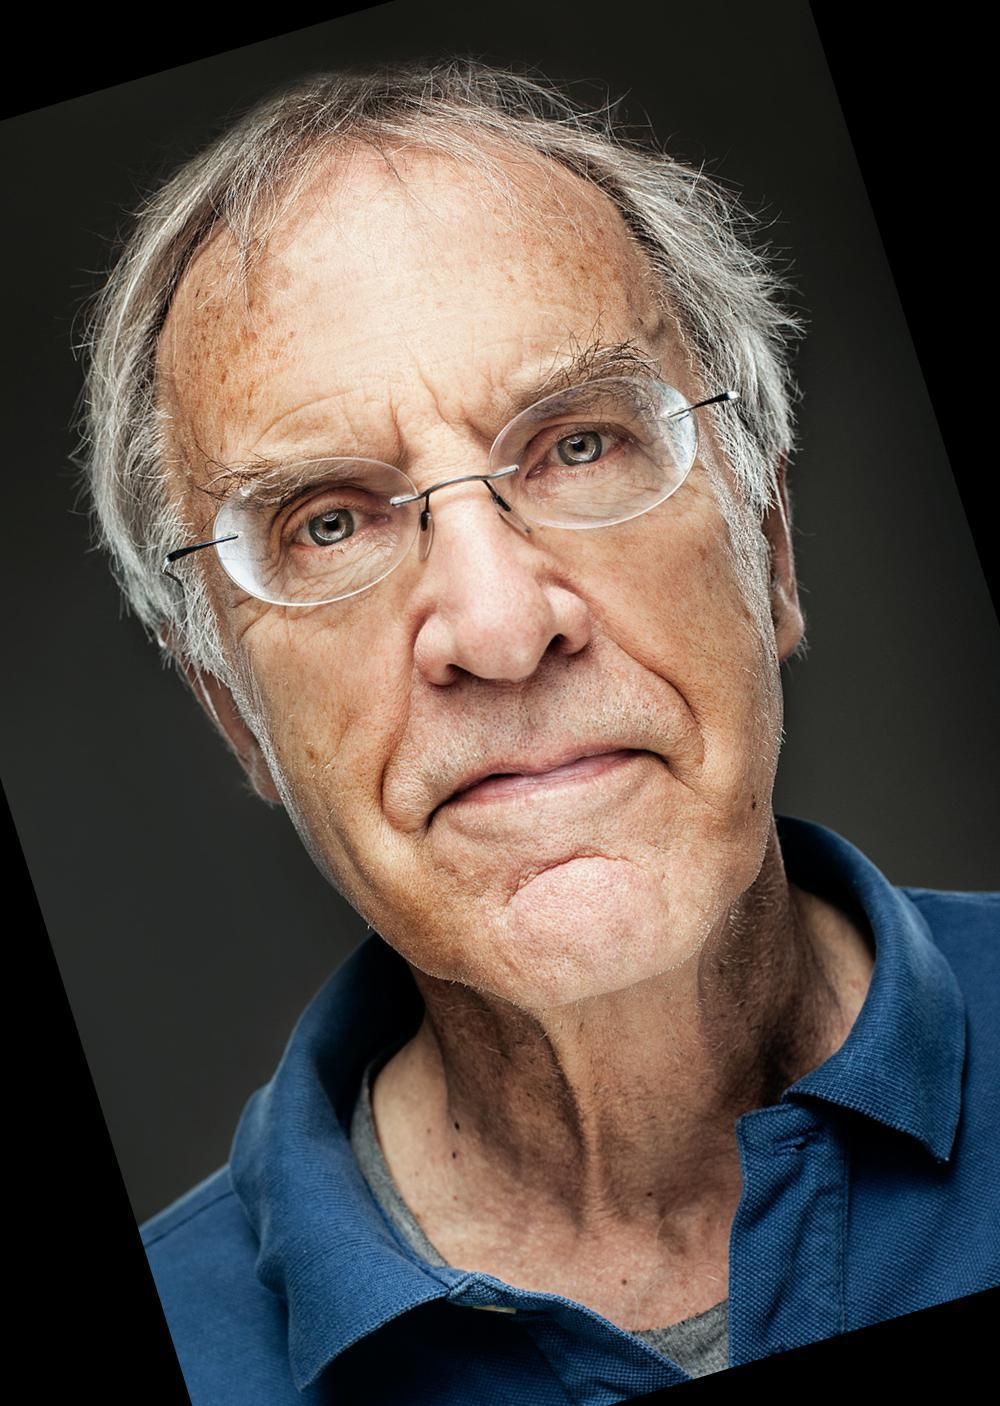Sober: (251, 241, 756, 963)
